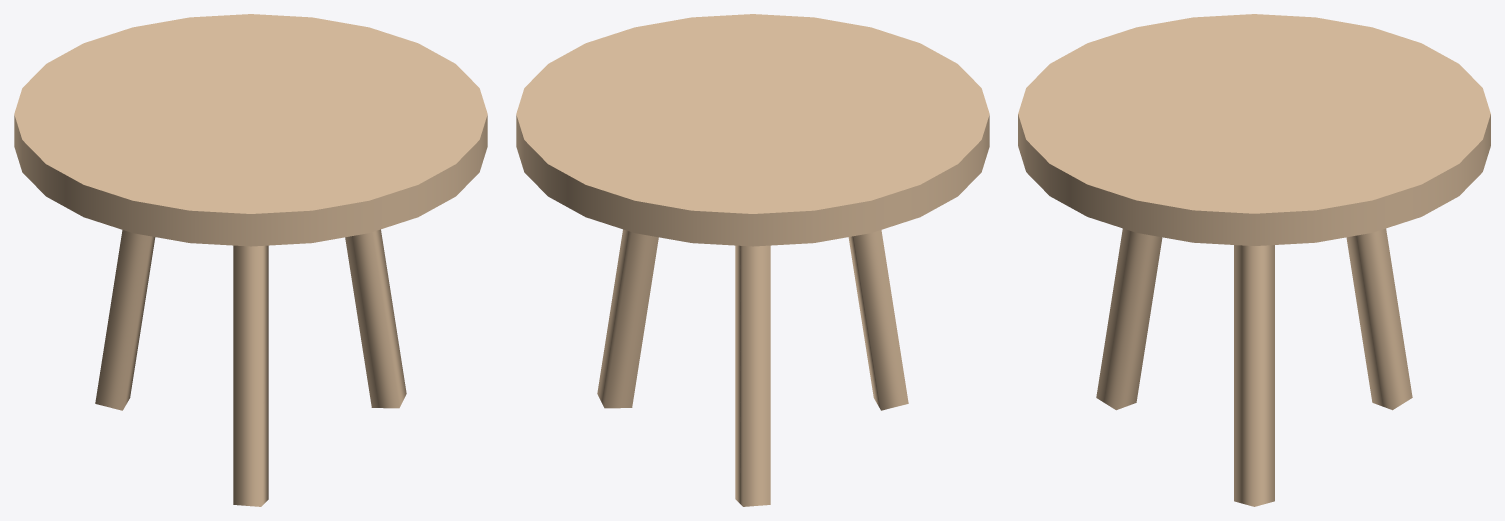
File: bedroom_ref_tea_table.glb
3 renders of one model, left to right at view 1: azimuth 30°, elevation 25°; view 2: azimuth 150°, elevation 25°; view 3: azimuth 270°, elevation 25°, orthographic.
Bounding box in the file's own units: 0.86 × 0.6483 × 0.86.
